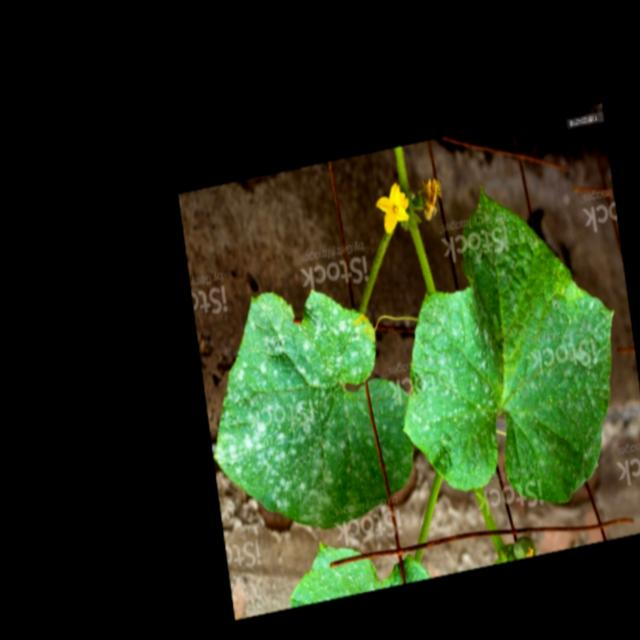Powdery_Mildew: (390, 177, 626, 515), (206, 273, 414, 541)
